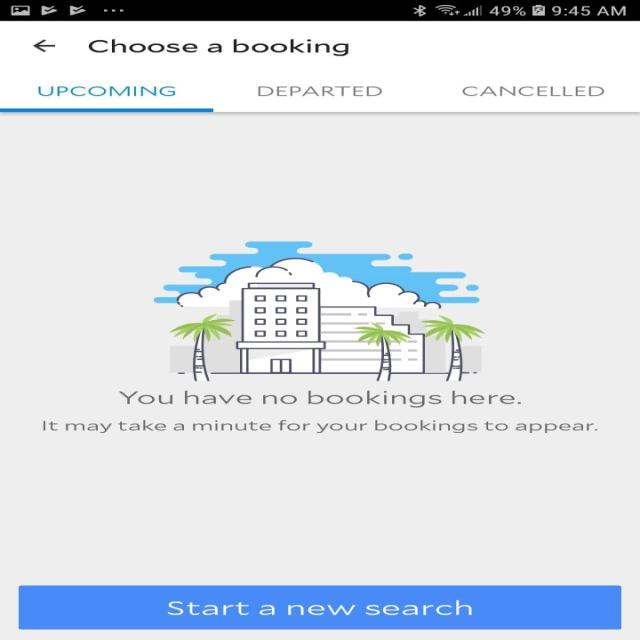Icon: (33, 39, 56, 52)
Image: (152, 240, 484, 381)
Text: (42, 419, 598, 433), (117, 390, 521, 408), (88, 38, 348, 56), (462, 86, 604, 97), (38, 86, 176, 97), (256, 86, 382, 97)
TextButton: (19, 585, 622, 629)
